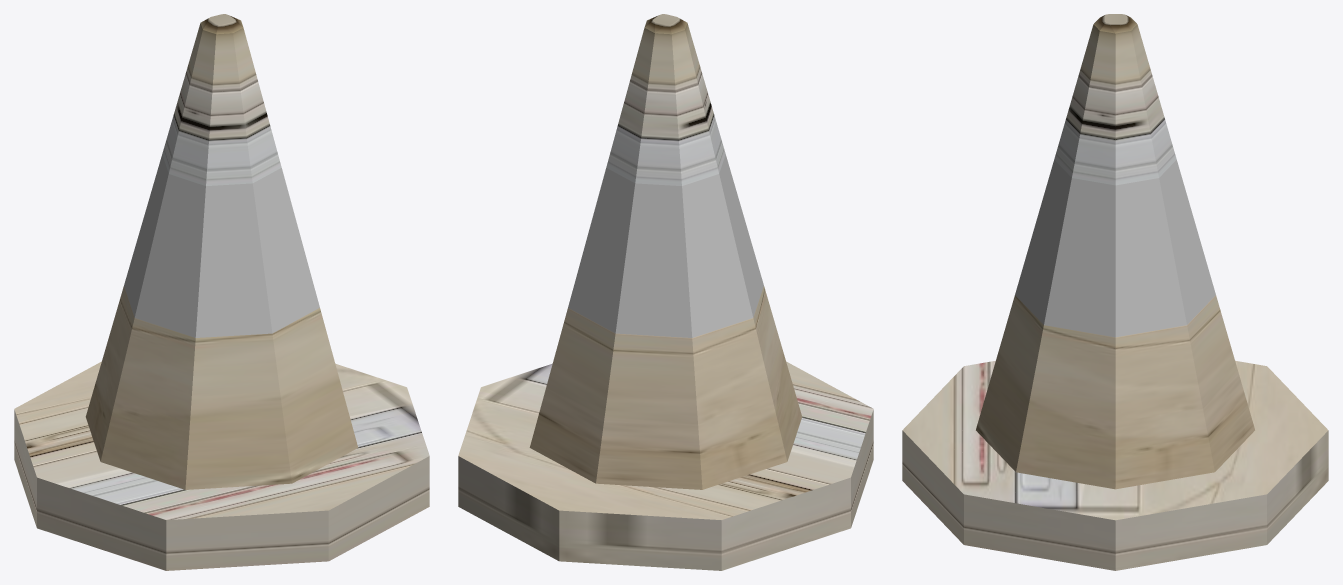
The model's file is TrafficCone.fbx.
The picture shows the model from 3 angles, left to right: view 1: azimuth 30°, elevation 25°; view 2: azimuth 150°, elevation 25°; view 3: azimuth 270°, elevation 25°; orthographic projection.
Parts seen in each view (by area): view 1: Cube; view 2: Cube; view 3: Cube.
Boxes of the visible parts, x1,y1,x2,y2 form: Cube: [14, 14, 429, 570]; Cube: [458, 14, 873, 570]; Cube: [902, 14, 1328, 570].
Size of the model in its own units: 56.12 by 67.18 by 56.12.
